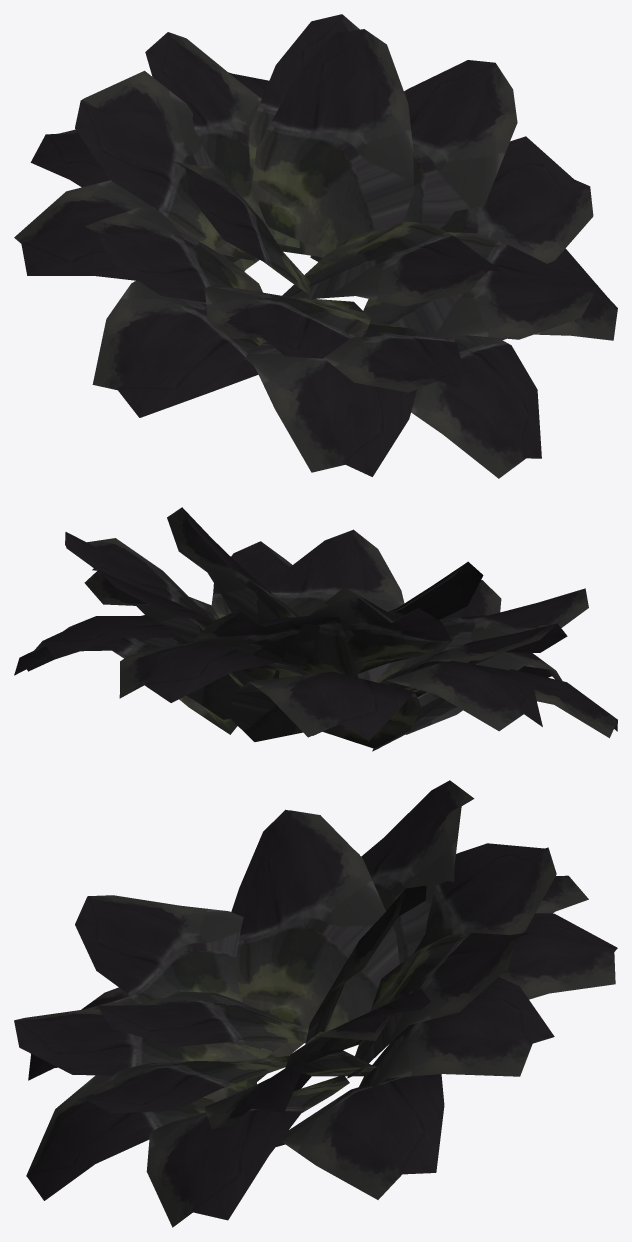
Rendered from plant_1.glb.
3 renders of one model, top to bottom at view 1: azimuth 30°, elevation 25°; view 2: azimuth 150°, elevation 25°; view 3: azimuth 270°, elevation 25°, orthographic. The views are drawn at different scales.
Parts seen in each view (by area): view 1: Plant_12; view 2: Plant_12; view 3: Plant_12.
Part boxes in pixels (x1,y1,x2,y2): Plant_12: [14, 14, 617, 478]; Plant_12: [14, 507, 617, 751]; Plant_12: [14, 780, 617, 1227].
Size of the model in its own units: 1.24 by 0.6862 by 1.2.
1 material, 1 textured.
